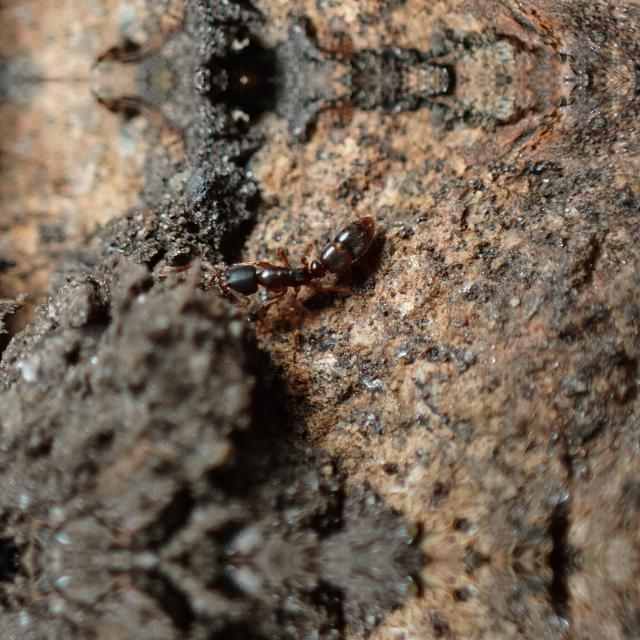Ponera: (204, 192, 384, 338)
